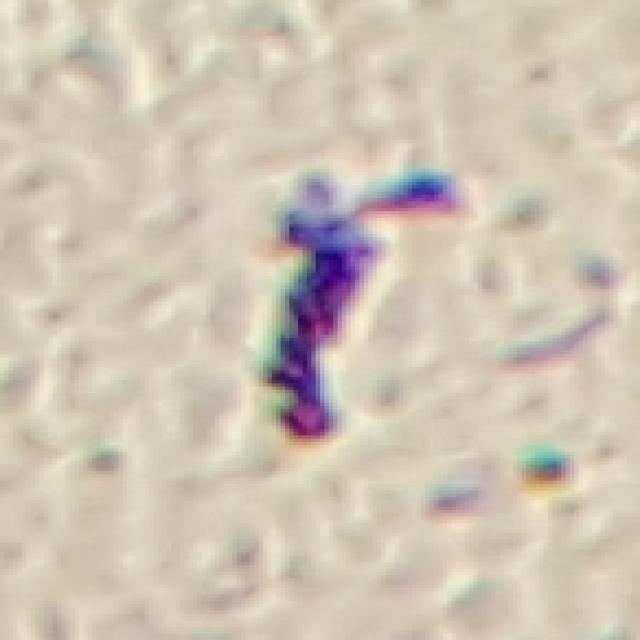non-sperm: (210, 156, 486, 464)
